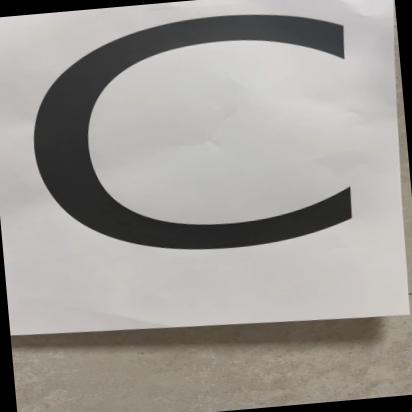seat: (0, 0, 406, 340)
